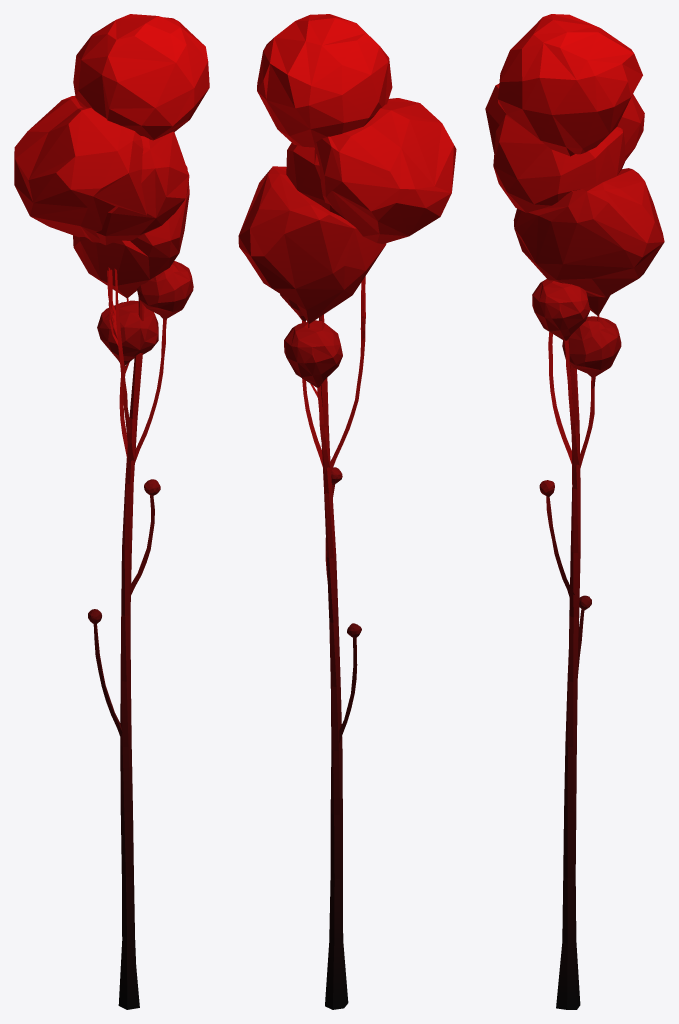
Rendered from TreeBirchTall01.fbx.
3 views of the same model, side by side, from view 1: azimuth 30°, elevation 25°; view 2: azimuth 150°, elevation 25°; view 3: azimuth 270°, elevation 25° (orthographic).
Visible parts, largest first — view 1: TreeBirchTall01_LOD0; view 2: TreeBirchTall01_LOD0; view 3: TreeBirchTall01_LOD0.
Boxes of the visible parts, x1,y1,x2,y2 form: TreeBirchTall01_LOD0: [14, 14, 209, 1009]; TreeBirchTall01_LOD0: [238, 14, 456, 1009]; TreeBirchTall01_LOD0: [485, 14, 664, 1009].
Size of what is drawn, in the model's own units: 371 by 2007 by 329.
